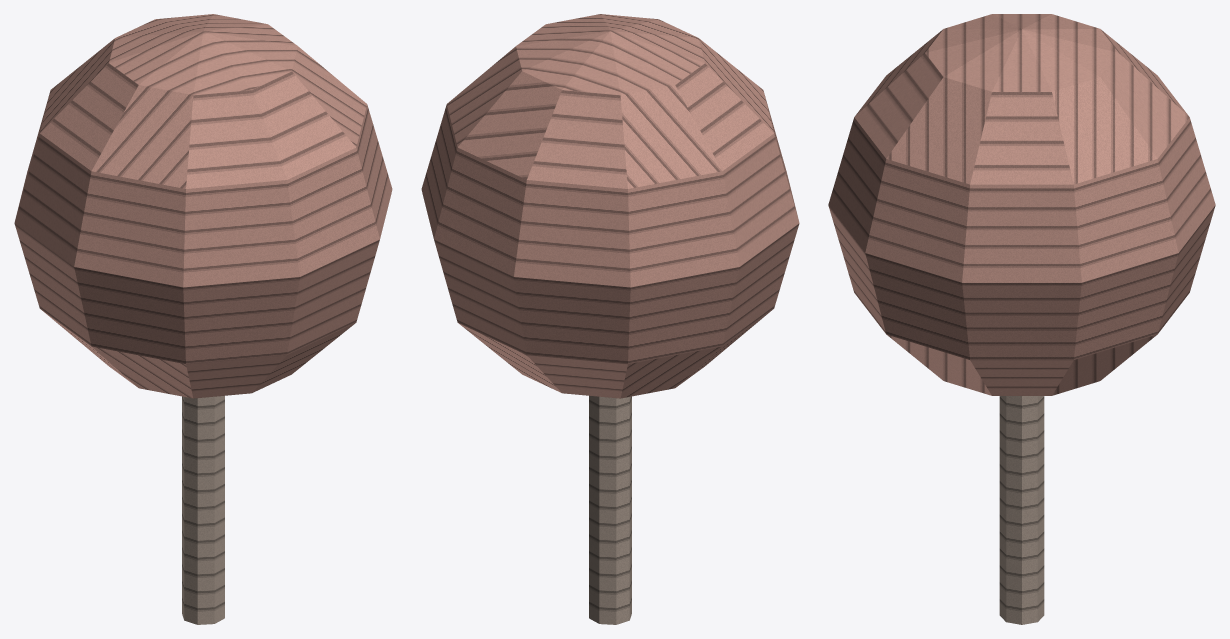
The model's file is tree_apple_orchard.glb.
The picture shows the model from 3 angles, left to right: view 1: azimuth 30°, elevation 25°; view 2: azimuth 150°, elevation 25°; view 3: azimuth 270°, elevation 25°; orthographic projection.
Parts seen in each view (by area): view 1: tree_apple_orchard-col; view 2: tree_apple_orchard-col; view 3: tree_apple_orchard-col.
Boxes of the visible parts, <box> form: tree_apple_orchard-col: <box>14,14,392,624</box>; tree_apple_orchard-col: <box>421,14,799,624</box>; tree_apple_orchard-col: <box>828,14,1215,624</box>.
Size of the model in its own units: 2.47 by 4.34 by 2.6.
Materials: 2 (2 with a texture image).
